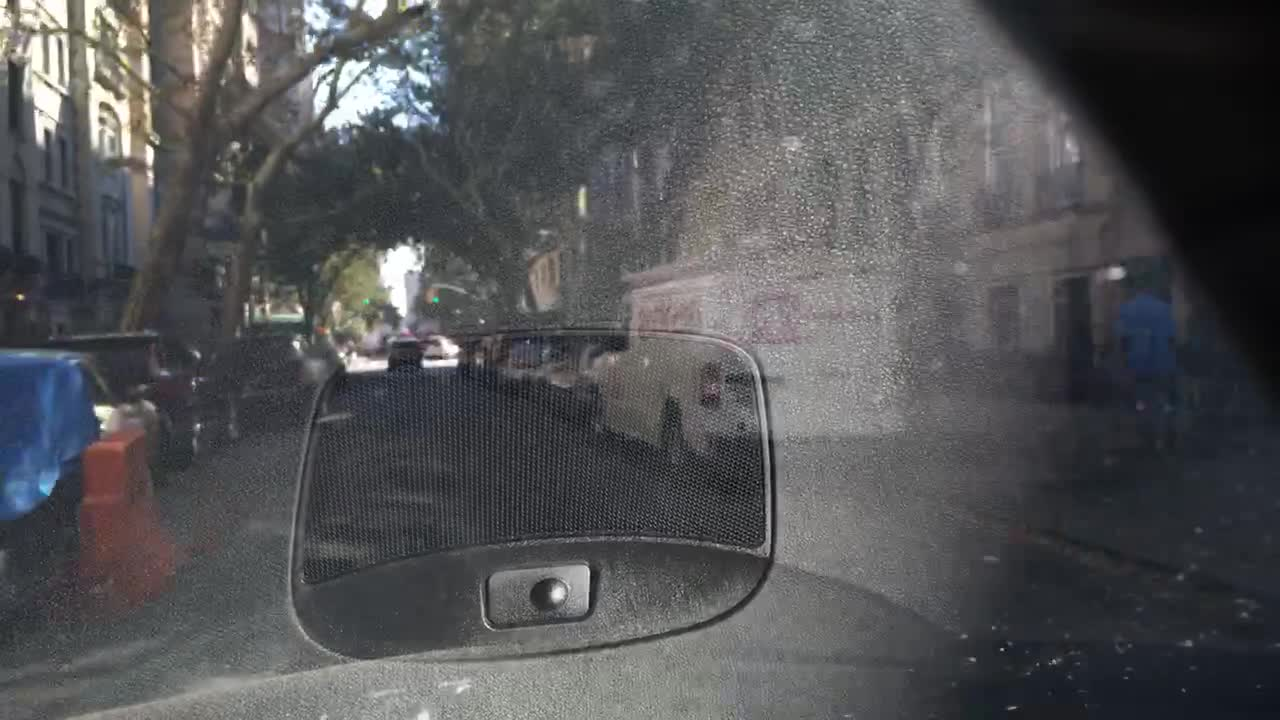car: (0, 346, 171, 613), (47, 329, 239, 467), (209, 334, 334, 425), (526, 329, 619, 416), (254, 313, 349, 380), (496, 334, 550, 394), (466, 329, 522, 382), (382, 338, 424, 373), (352, 328, 390, 359), (453, 337, 484, 374), (421, 335, 459, 359)
person: (1113, 280, 1181, 457)
traffic light: (430, 285, 439, 304), (423, 288, 432, 304), (361, 291, 369, 306)
truck: (589, 237, 920, 482)
